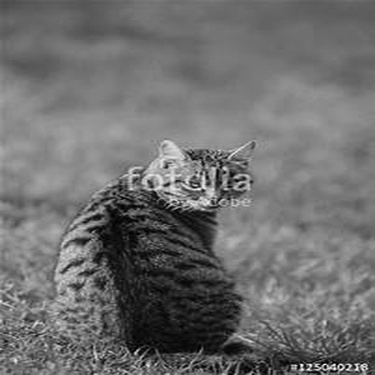cat: (53, 134, 255, 354)
